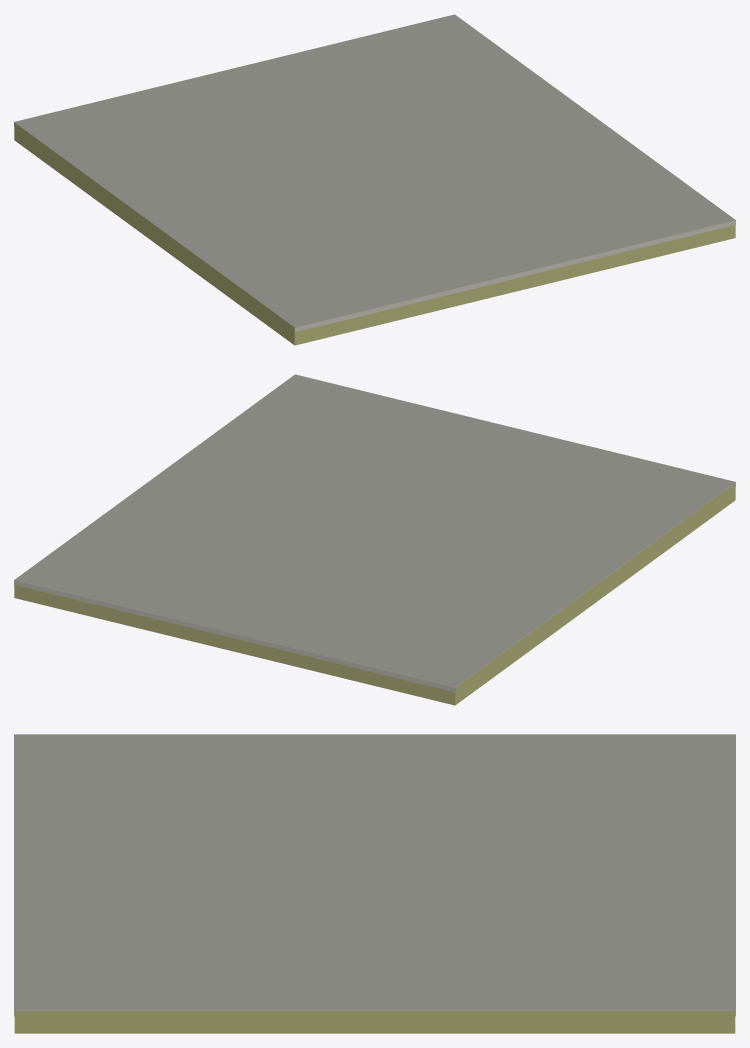
The model's file is SM_KitAnden_F11_v1_LOD0.fbx.
The picture shows the model from 3 angles, top to bottom: view 1: azimuth 30°, elevation 25°; view 2: azimuth 150°, elevation 25°; view 3: azimuth 270°, elevation 25°; orthographic projection. The views are drawn at different scales.
Parts seen in each view (by area): view 1: SM_kit_anden_v1_LOD0; view 2: SM_kit_anden_v1_LOD0; view 3: SM_kit_anden_v1_LOD0.
Part boxes in pixels (x1,y1,x2,y2): SM_kit_anden_v1_LOD0: (14,14,735,345); SM_kit_anden_v1_LOD0: (14,374,735,705); SM_kit_anden_v1_LOD0: (14,734,735,1033).
Bounding box in the file's own units: 9.98 × 0.39 × 11.02.
